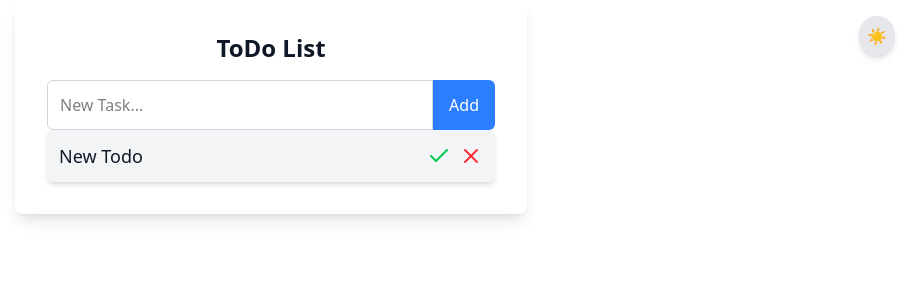
ToDoList Component › should remove a todo item
Type "Task to remove" into the field with test id "test-inpt-task" at (240, 105), box [47, 80, 433, 130]
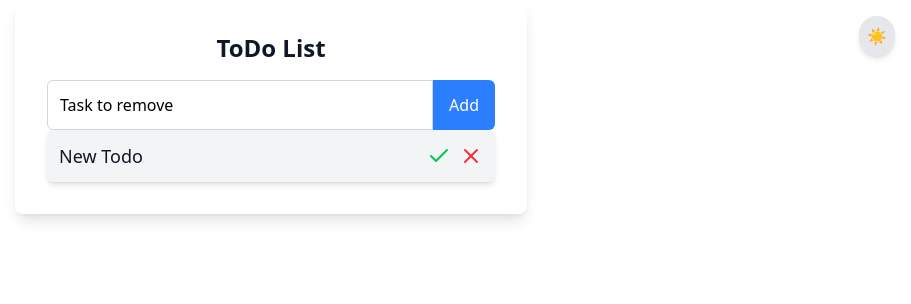
Click the button with test id "test-btn-add" at (464, 105), box [433, 80, 495, 130]
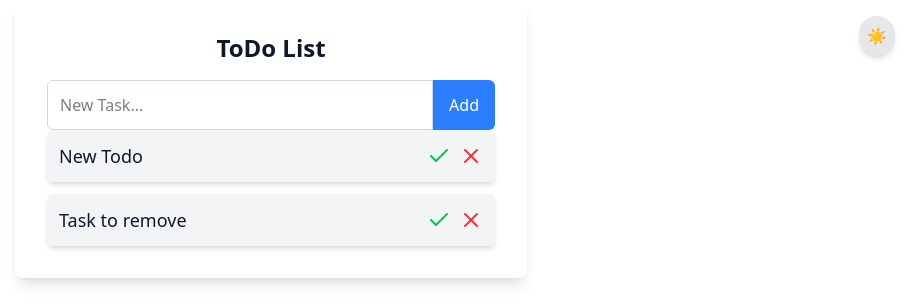
Check: the number of list items with test id "test-li-tasks" is 2, box [47, 130, 495, 182]; [47, 194, 495, 246]
// Now trigger the click event
Click the 4th button at (471, 156), box [459, 144, 483, 168]
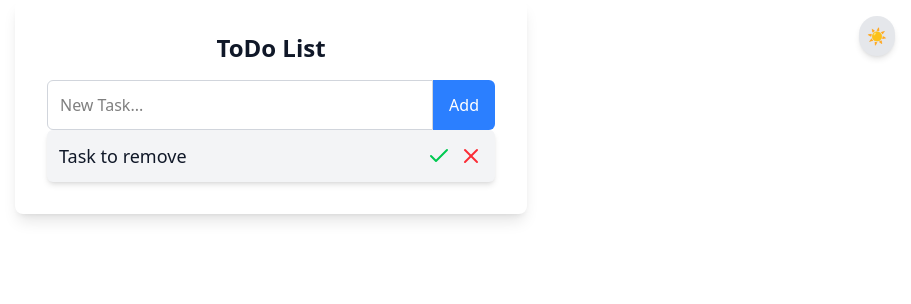
Check: the number of list items with test id "test-li-tasks" is 1, box [47, 130, 495, 182]
